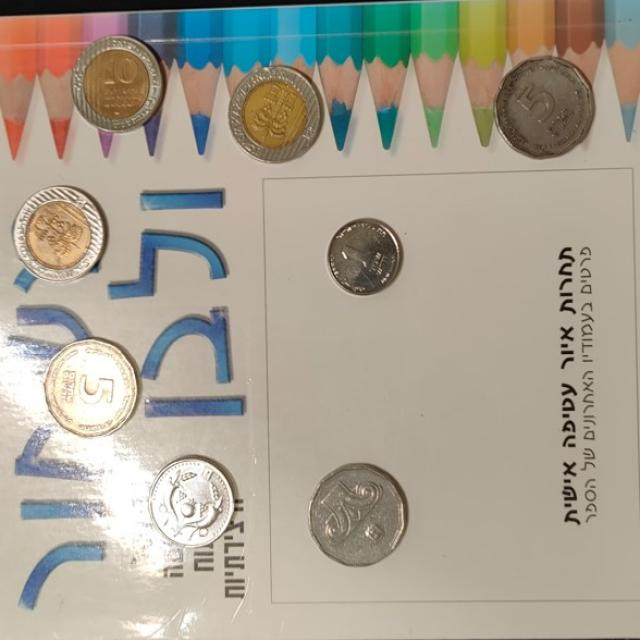1-shekel: (329, 216, 403, 299)
10-shekel: (8, 187, 113, 292), (232, 65, 324, 164), (71, 36, 160, 134)
2-shekel: (149, 458, 235, 548)
5-shekel: (306, 462, 407, 570), (494, 56, 596, 160), (40, 336, 136, 444)
